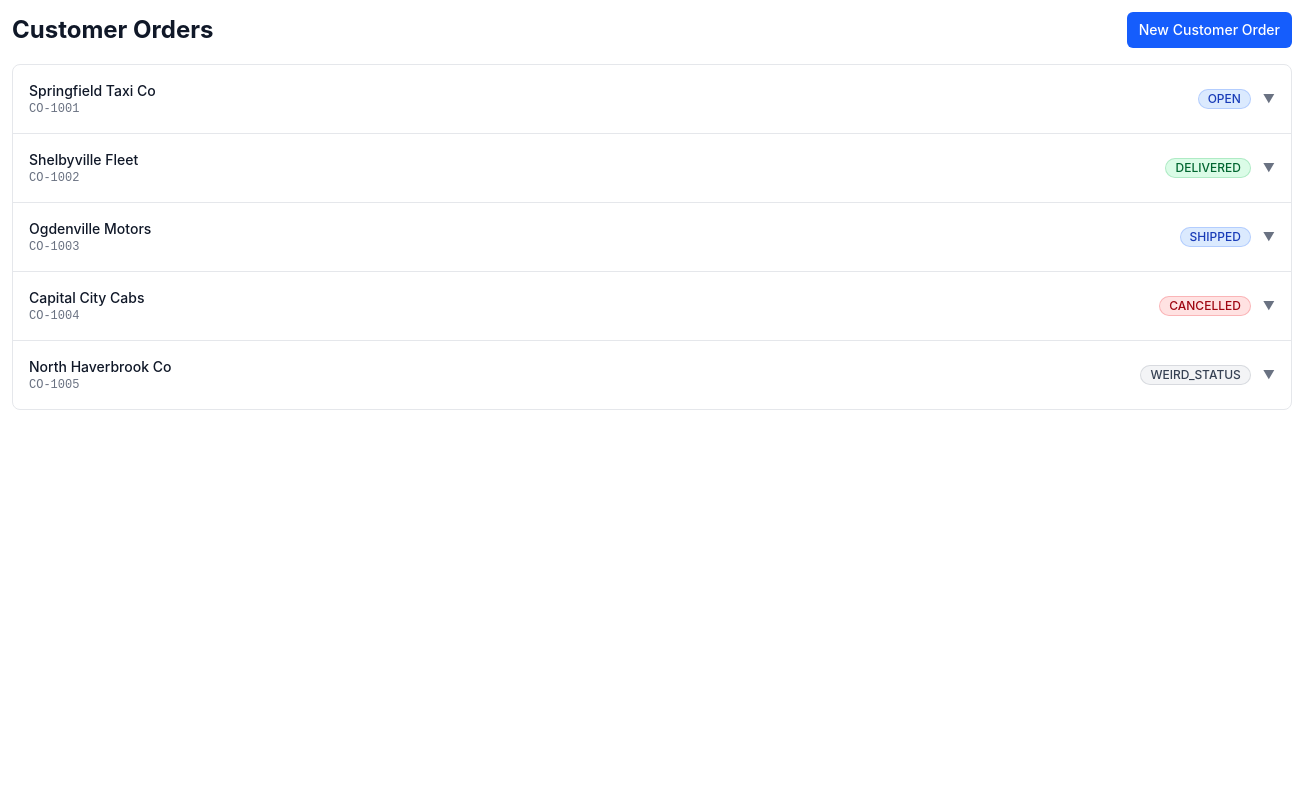
it: CustomerOrders detail › collapses an expanded order when clicked again
What coordinates should you click on to do the following:
click the text "CO-1001"
I would click on:
 (54, 109)
Its box is [29,102,79,116].
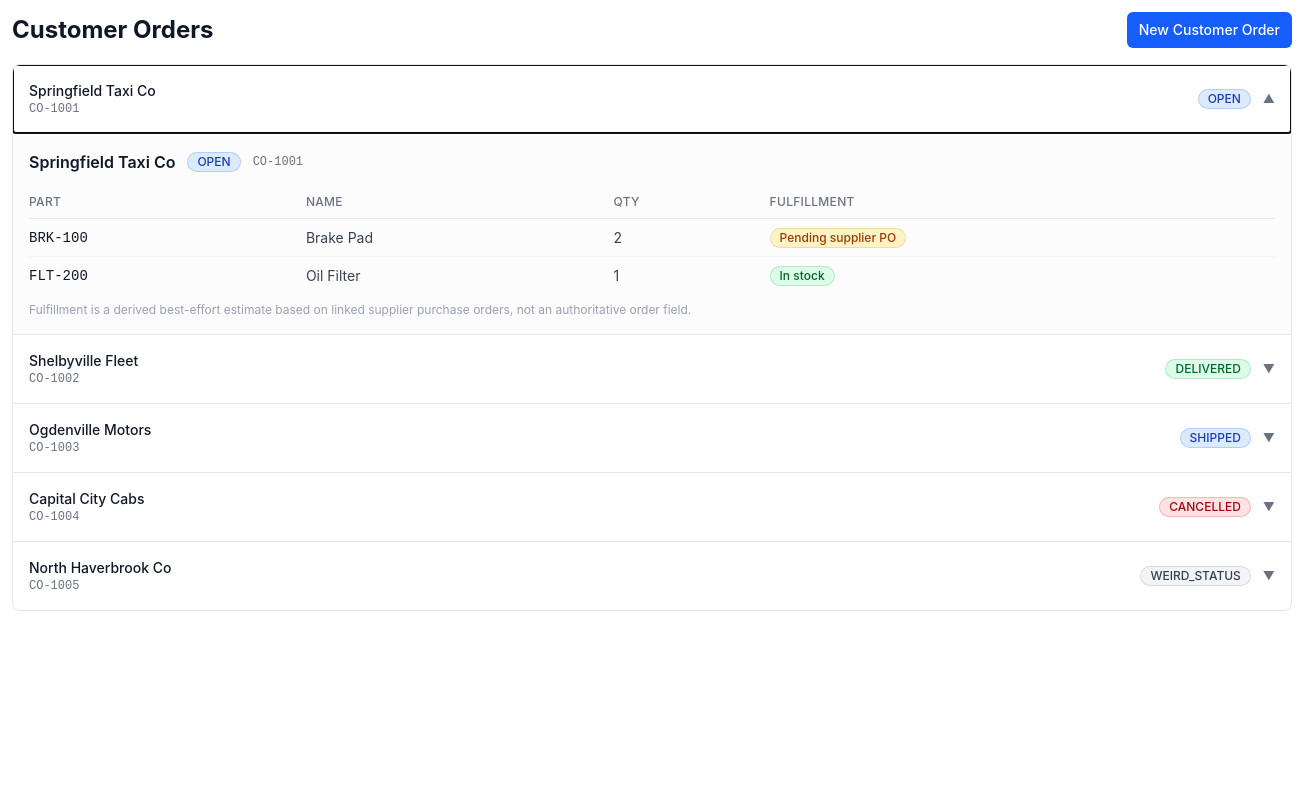
Now the text "Brake Pad" is shown, box [306,218,614,256]
What coordinates should you click on to do the following:
click the 1st text "CO-1001"
I would click on:
 (54, 109)
Its box is [29,102,79,116].
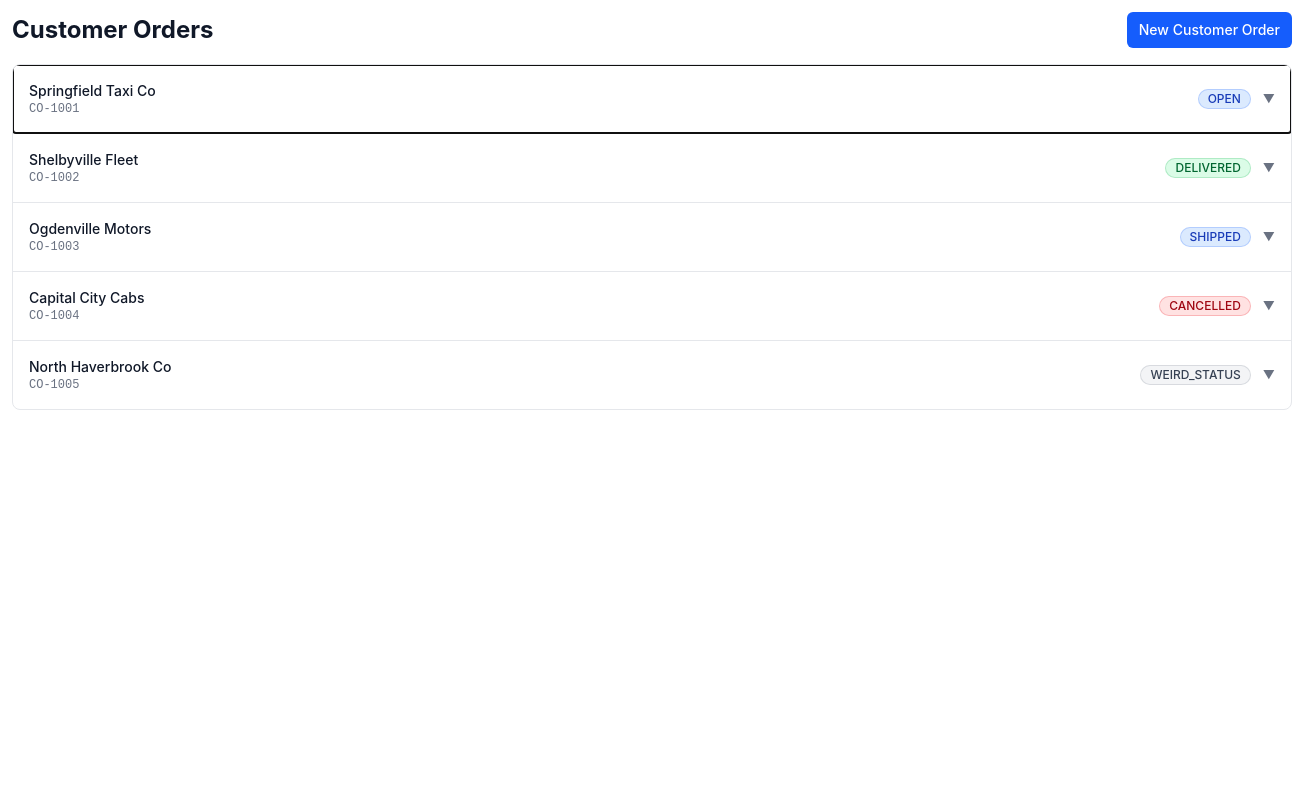
Now the text "Brake Pad" is gone
